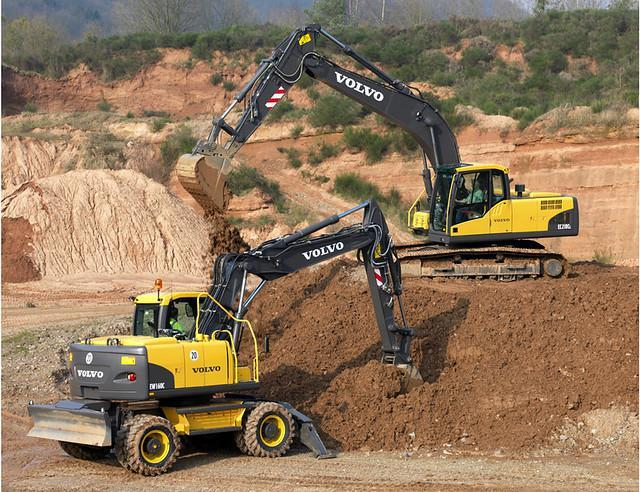EXCAVATORS: (175, 26, 582, 289), (29, 289, 331, 476)
